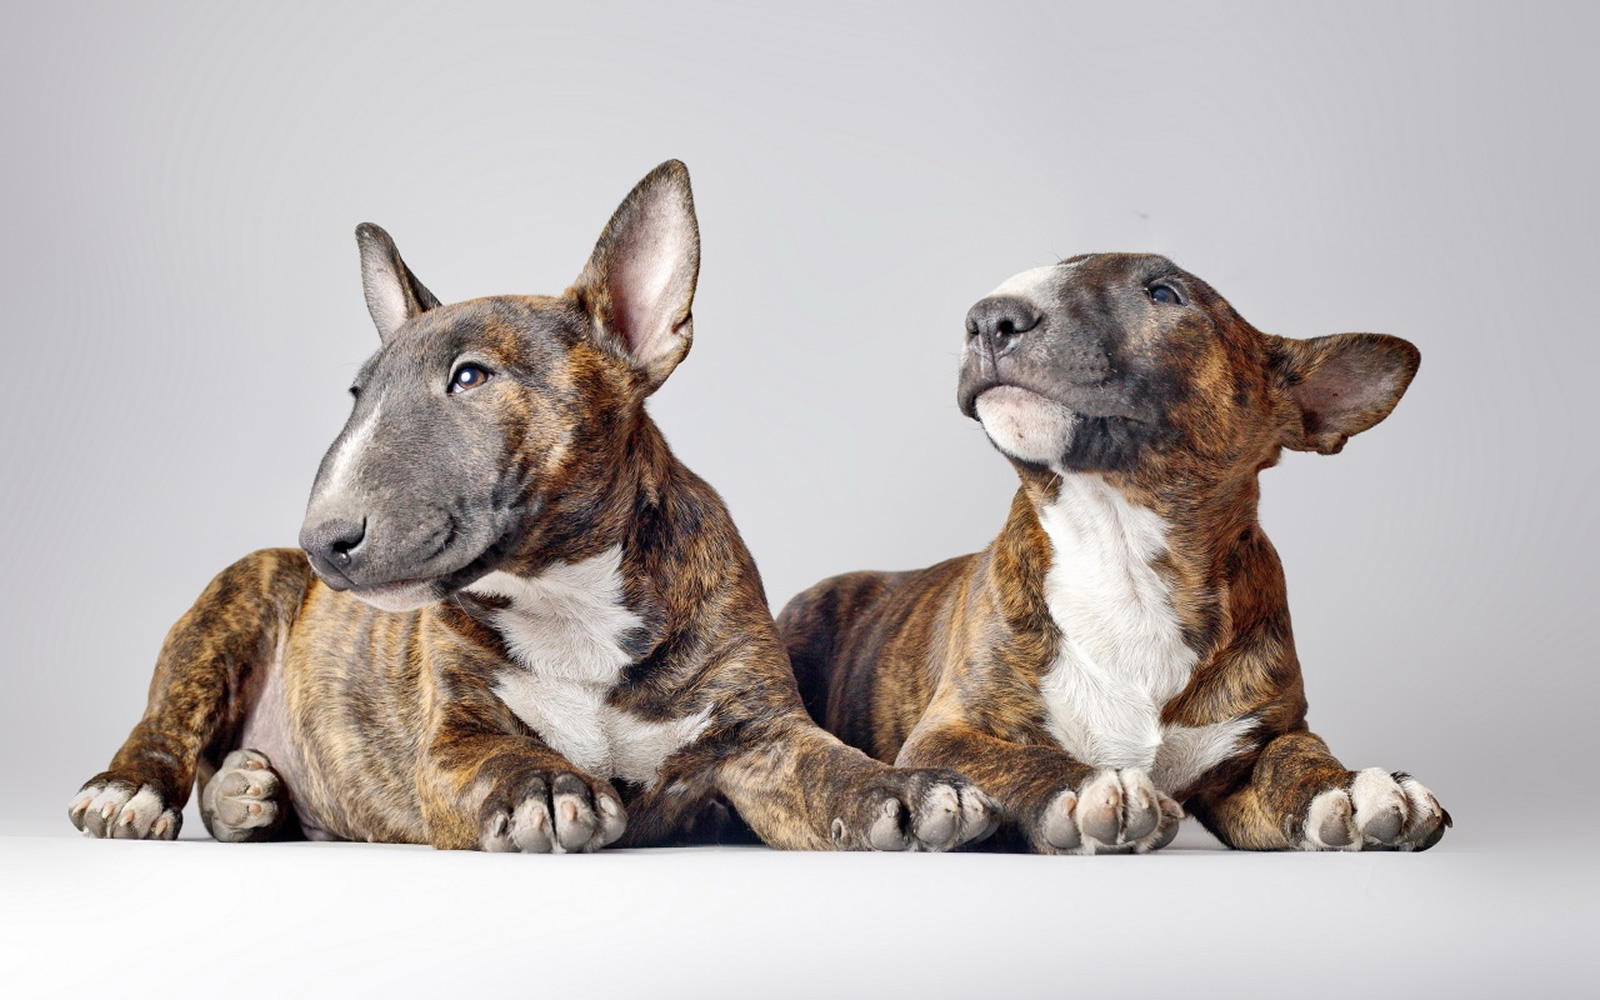bull_terrier: (62, 157, 1003, 856), (774, 251, 1450, 854)
